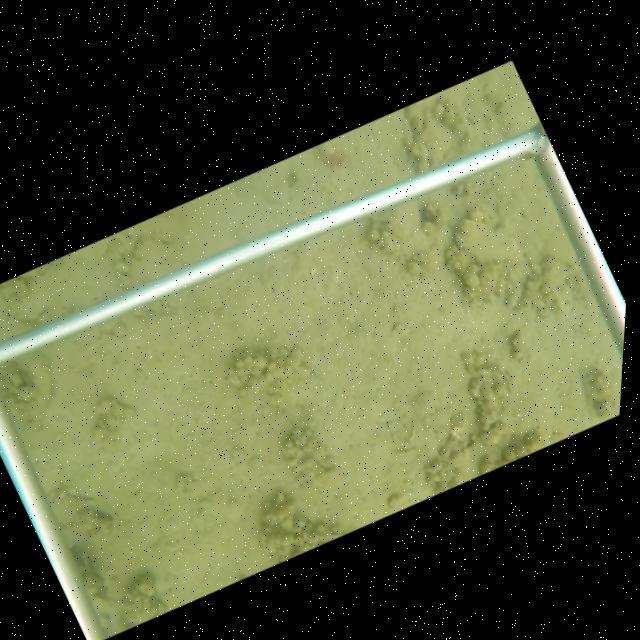Oyster-Closed: (451, 218, 521, 268), (7, 293, 53, 324)
Oyster-Indeterminate: (25, 357, 56, 426)
